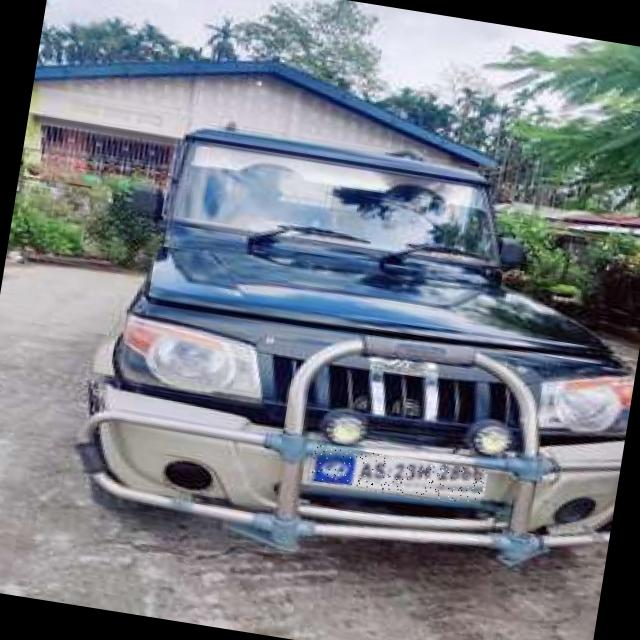Plate: (311, 445, 487, 507)
